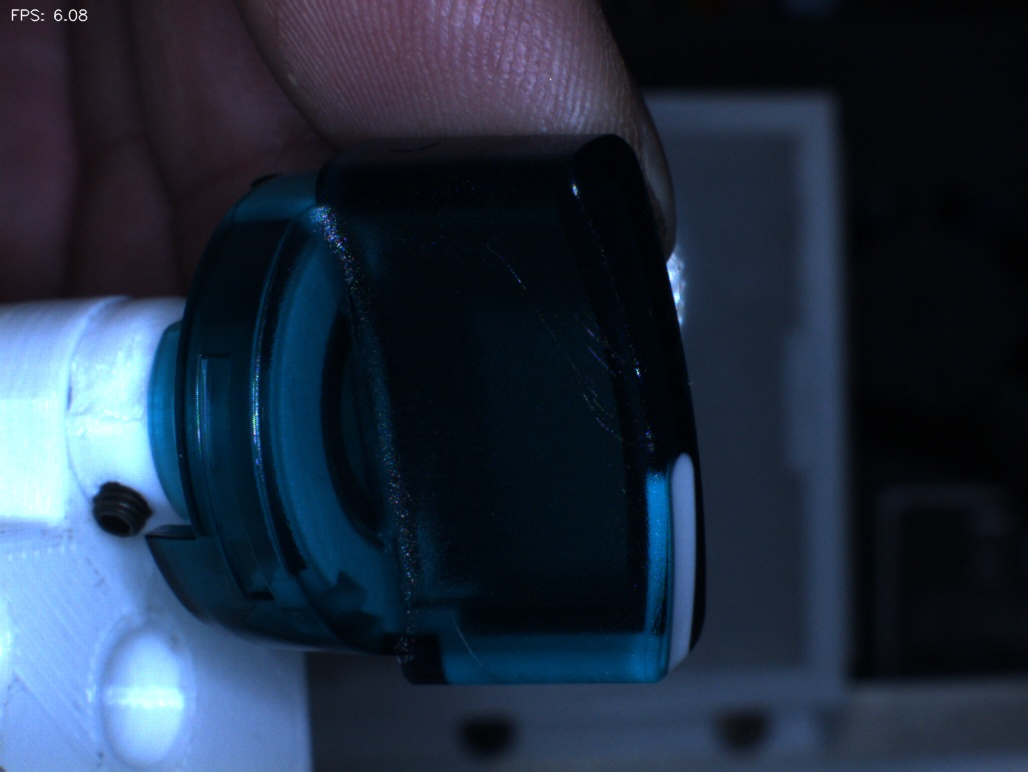Givrage: (507, 237, 636, 451)
